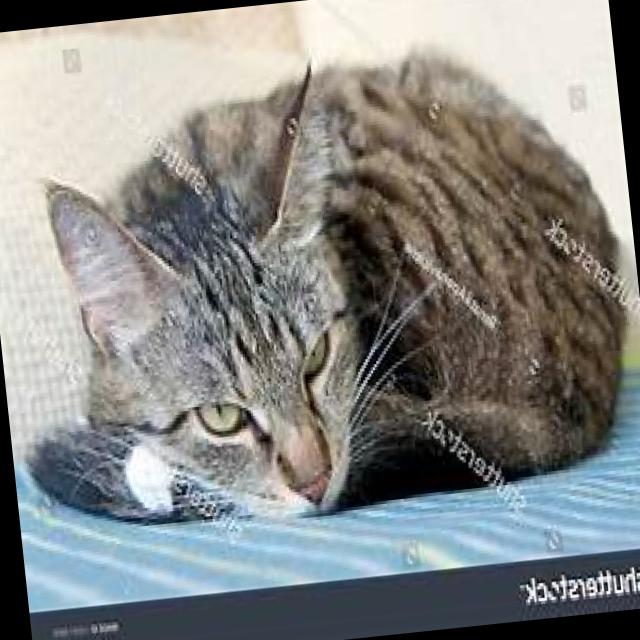cat: (0, 36, 640, 531)
